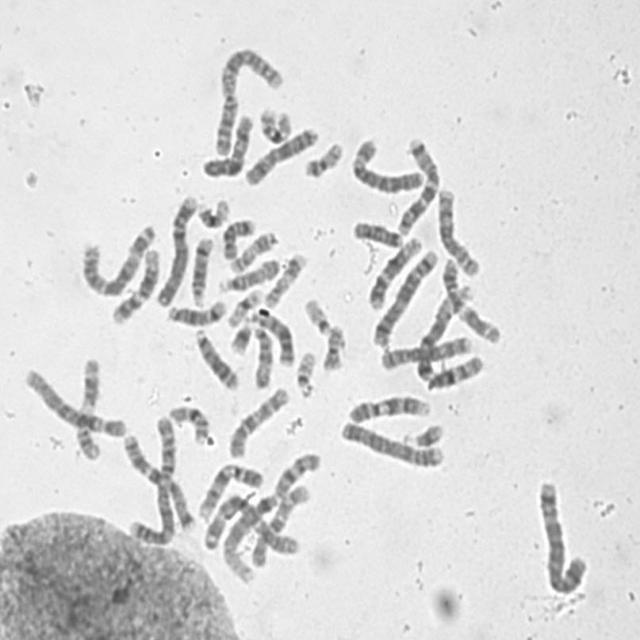A1: (217, 450, 322, 584), (412, 284, 484, 392)
A2: (210, 49, 286, 157), (126, 415, 179, 546)
A3: (202, 495, 300, 557), (78, 223, 156, 300)
B4: (340, 421, 444, 468), (155, 196, 198, 308)
B5: (536, 478, 593, 596), (372, 248, 438, 346)
C10: (248, 482, 311, 568), (227, 384, 289, 458)
C11: (440, 258, 504, 346), (73, 356, 107, 462)
C12: (366, 237, 423, 312), (110, 250, 160, 328)
C6: (23, 365, 128, 439), (347, 138, 427, 193)
C7: (121, 432, 197, 534), (395, 136, 441, 235)
C8: (436, 188, 482, 277), (379, 334, 473, 374)
C9: (197, 461, 265, 527), (345, 394, 433, 424)
D13: (191, 326, 241, 394), (247, 310, 296, 368)
D14: (189, 237, 215, 309), (168, 298, 228, 326)
D15: (218, 257, 282, 294), (252, 326, 273, 389)
E16: (169, 404, 210, 448), (258, 106, 292, 145)
E17: (263, 251, 310, 310), (228, 228, 278, 273)
E18: (351, 218, 403, 248), (221, 217, 256, 261)
F19: (226, 287, 266, 331), (196, 196, 232, 230)
F20: (305, 142, 344, 178), (320, 324, 345, 372)
G21: (226, 316, 253, 358), (402, 424, 445, 449)
G22: (294, 347, 317, 398), (303, 298, 330, 336)
X: (243, 127, 320, 188), (200, 114, 253, 180)
